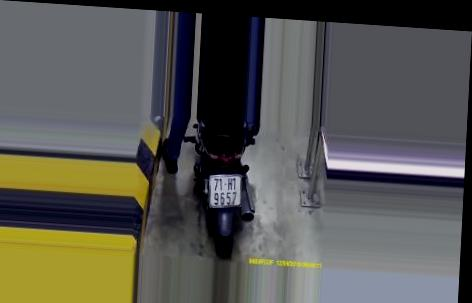License_Plate: (204, 172, 243, 211)
